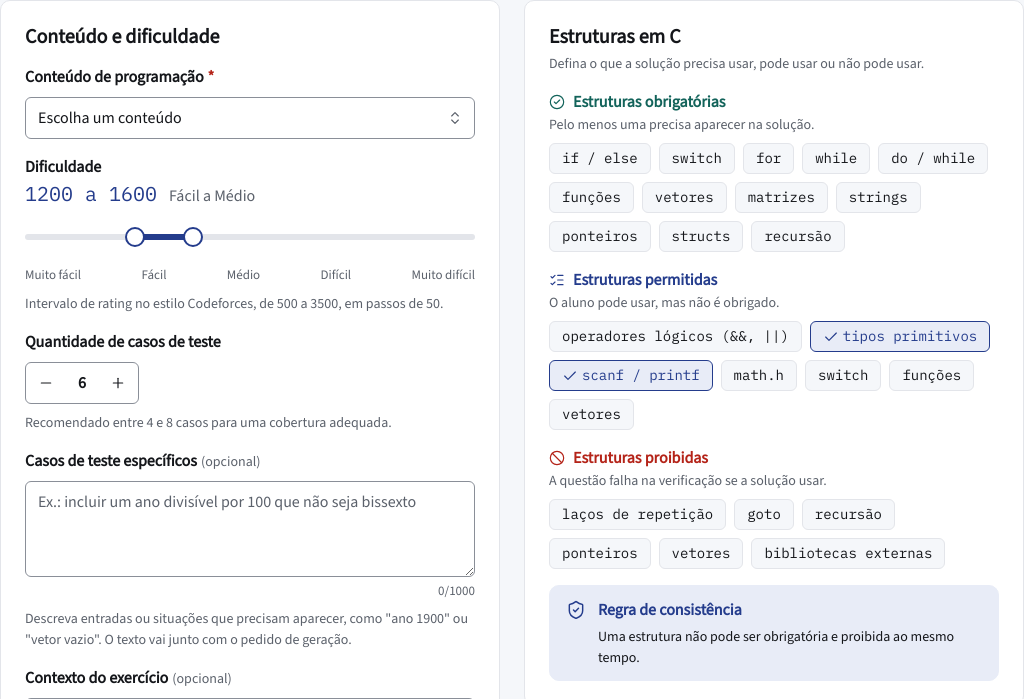
Test: GenerateForm › ajusta a dificuldade em intervalo estilo Codeforces
The width and height of the screenshot is (1024, 699).
Set the slider named "Dificuldade mínima" to "1900" at coordinates (236, 237), box [25,217,475,257]
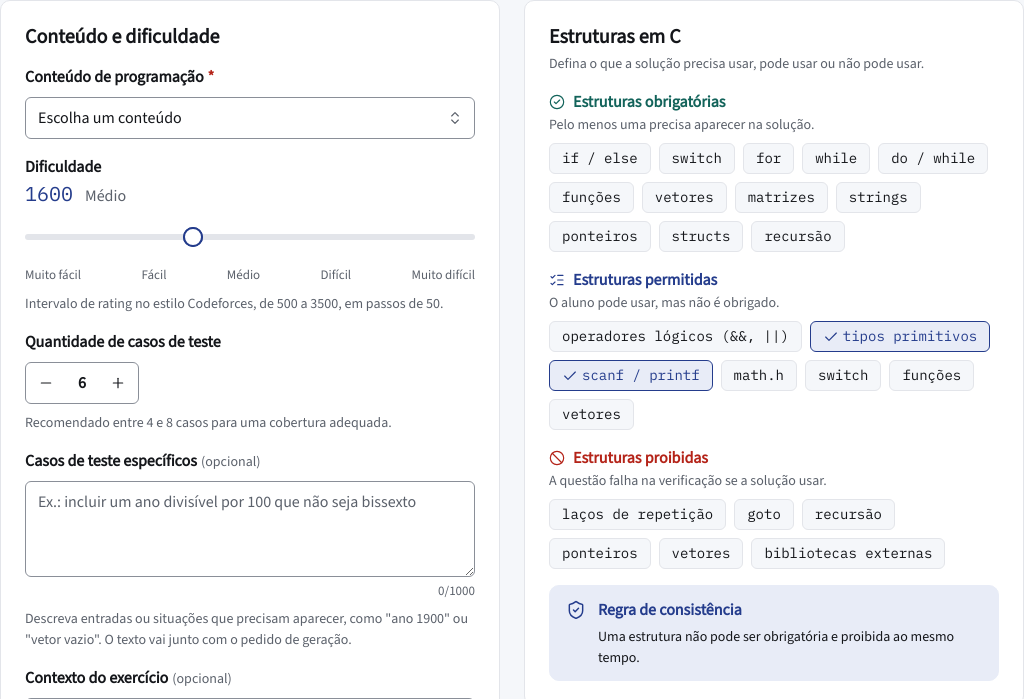
Set the slider named "Dificuldade máxima" to "2450" at coordinates (315, 237), box [25,217,475,257]
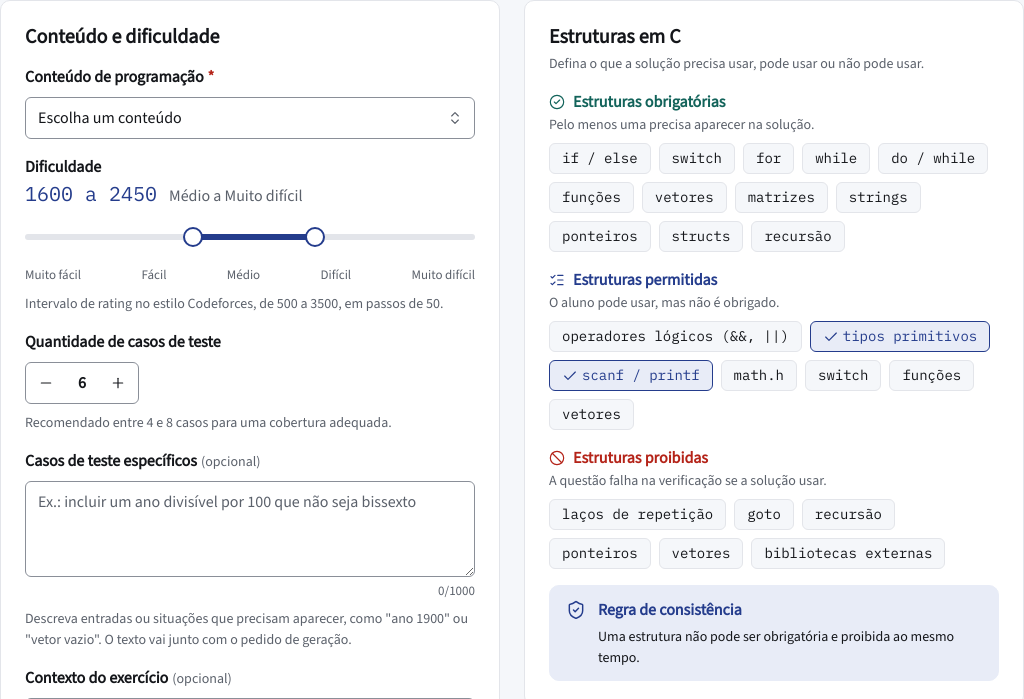
Result: the text "1600 a 2450" is shown at [25,179,157,209]
Result: the text "Médio a Muito difícil" is shown at [169,184,303,208]
